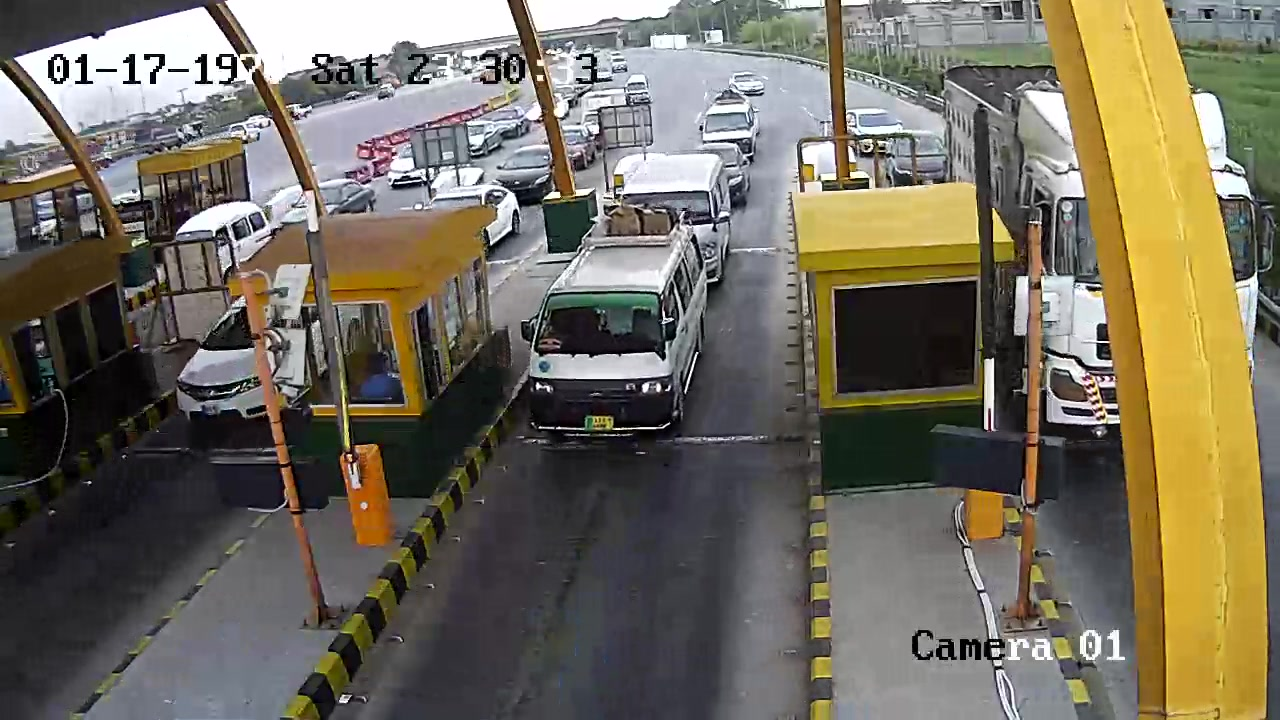F2: (521, 212, 705, 446)
